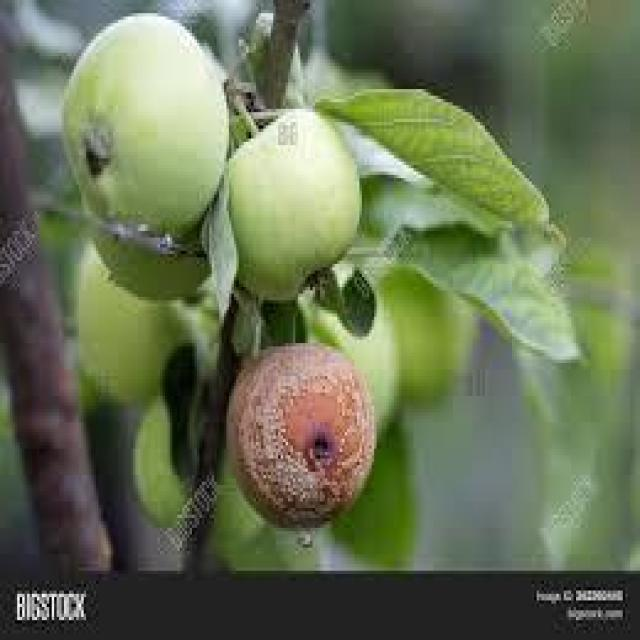maca: (56, 6, 228, 231), (212, 104, 364, 300), (224, 340, 377, 528)
